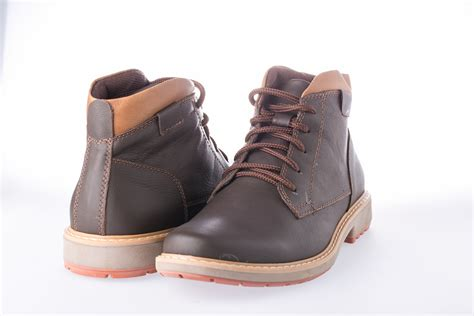cuero: (69, 65, 367, 266)
